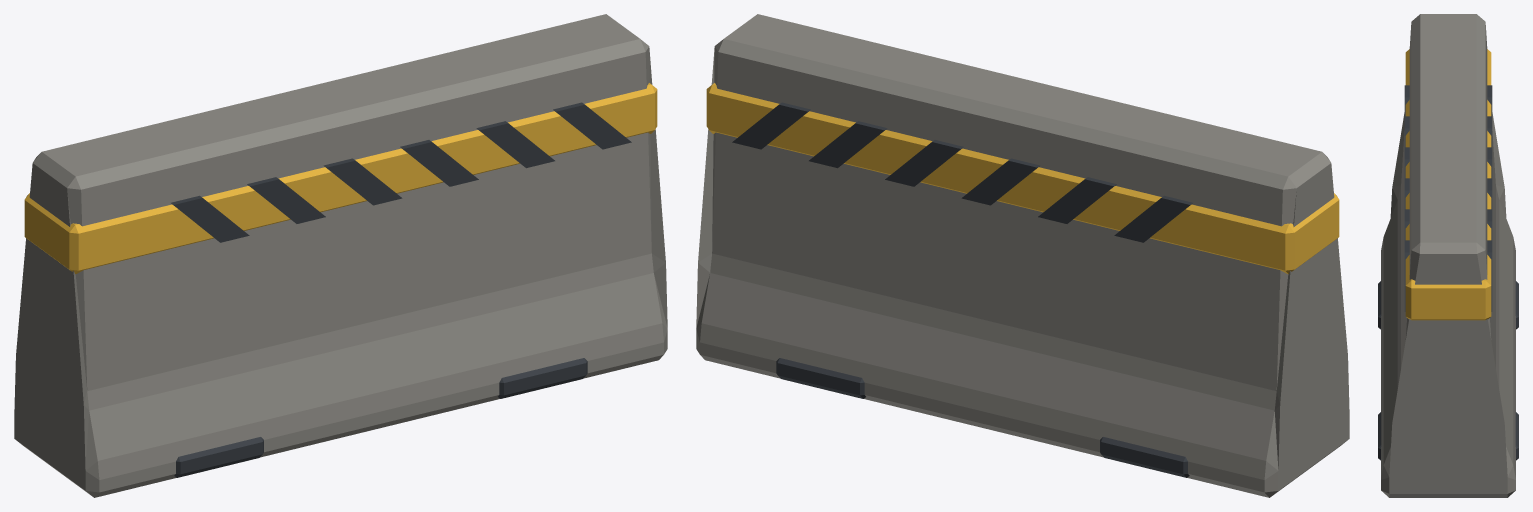
Rendered from cover_barrier.obj.
3 renders of one model, left to right at view 1: azimuth 30°, elevation 25°; view 2: azimuth 150°, elevation 25°; view 3: azimuth 270°, elevation 25°, orthographic. The views are drawn at different scales.
Visible parts, largest first — view 1: cover_barrier; view 2: cover_barrier; view 3: cover_barrier.
Boxes of the visible parts, x1=… form: cover_barrier: x1=14, y1=14, x2=667, y2=497; cover_barrier: x1=696, y1=14, x2=1349, y2=497; cover_barrier: x1=1378, y1=14, x2=1518, y2=497.
Bounding box in the file's own units: 2 × 1 × 0.5.
